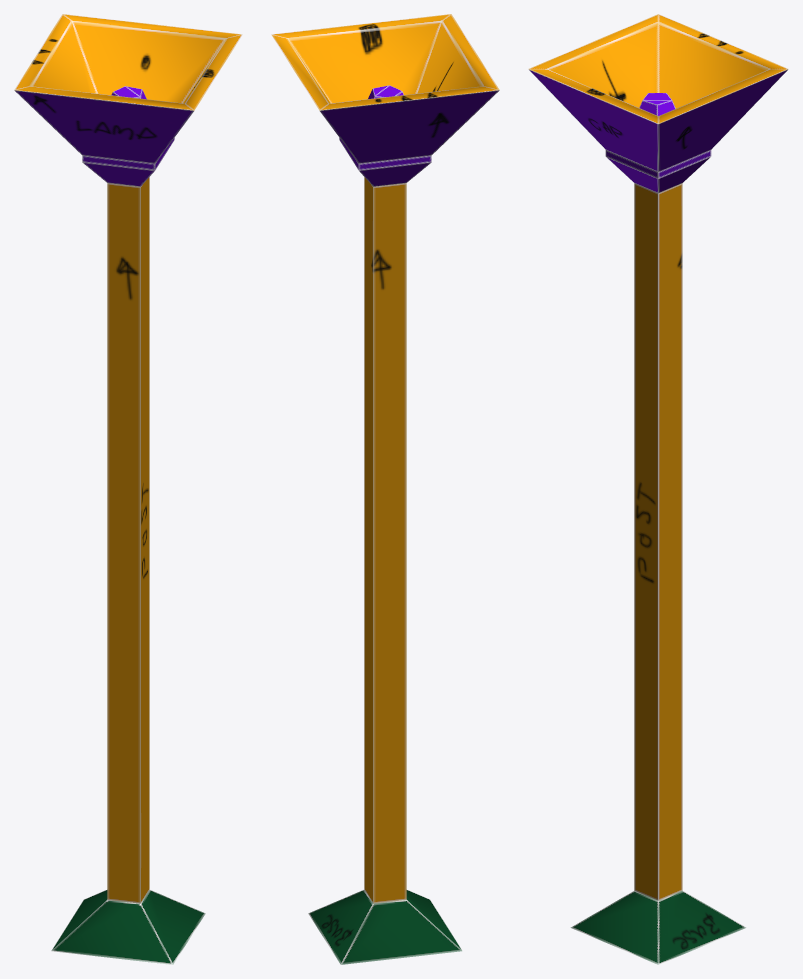
Rendered from hs_lamp.fbx.
3 renders of one model, left to right at view 1: azimuth 30°, elevation 25°; view 2: azimuth 150°, elevation 25°; view 3: azimuth 270°, elevation 25°, orthographic.
Visible parts, largest first — view 1: lamp; view 2: lamp; view 3: lamp.
Part boxes in pixels (x1,y1,x2,y2): lamp: (14, 14, 242, 964); lamp: (271, 14, 499, 964); lamp: (528, 14, 788, 964).
Bounding box in the file's own units: 27.07 × 98.38 × 27.07.
